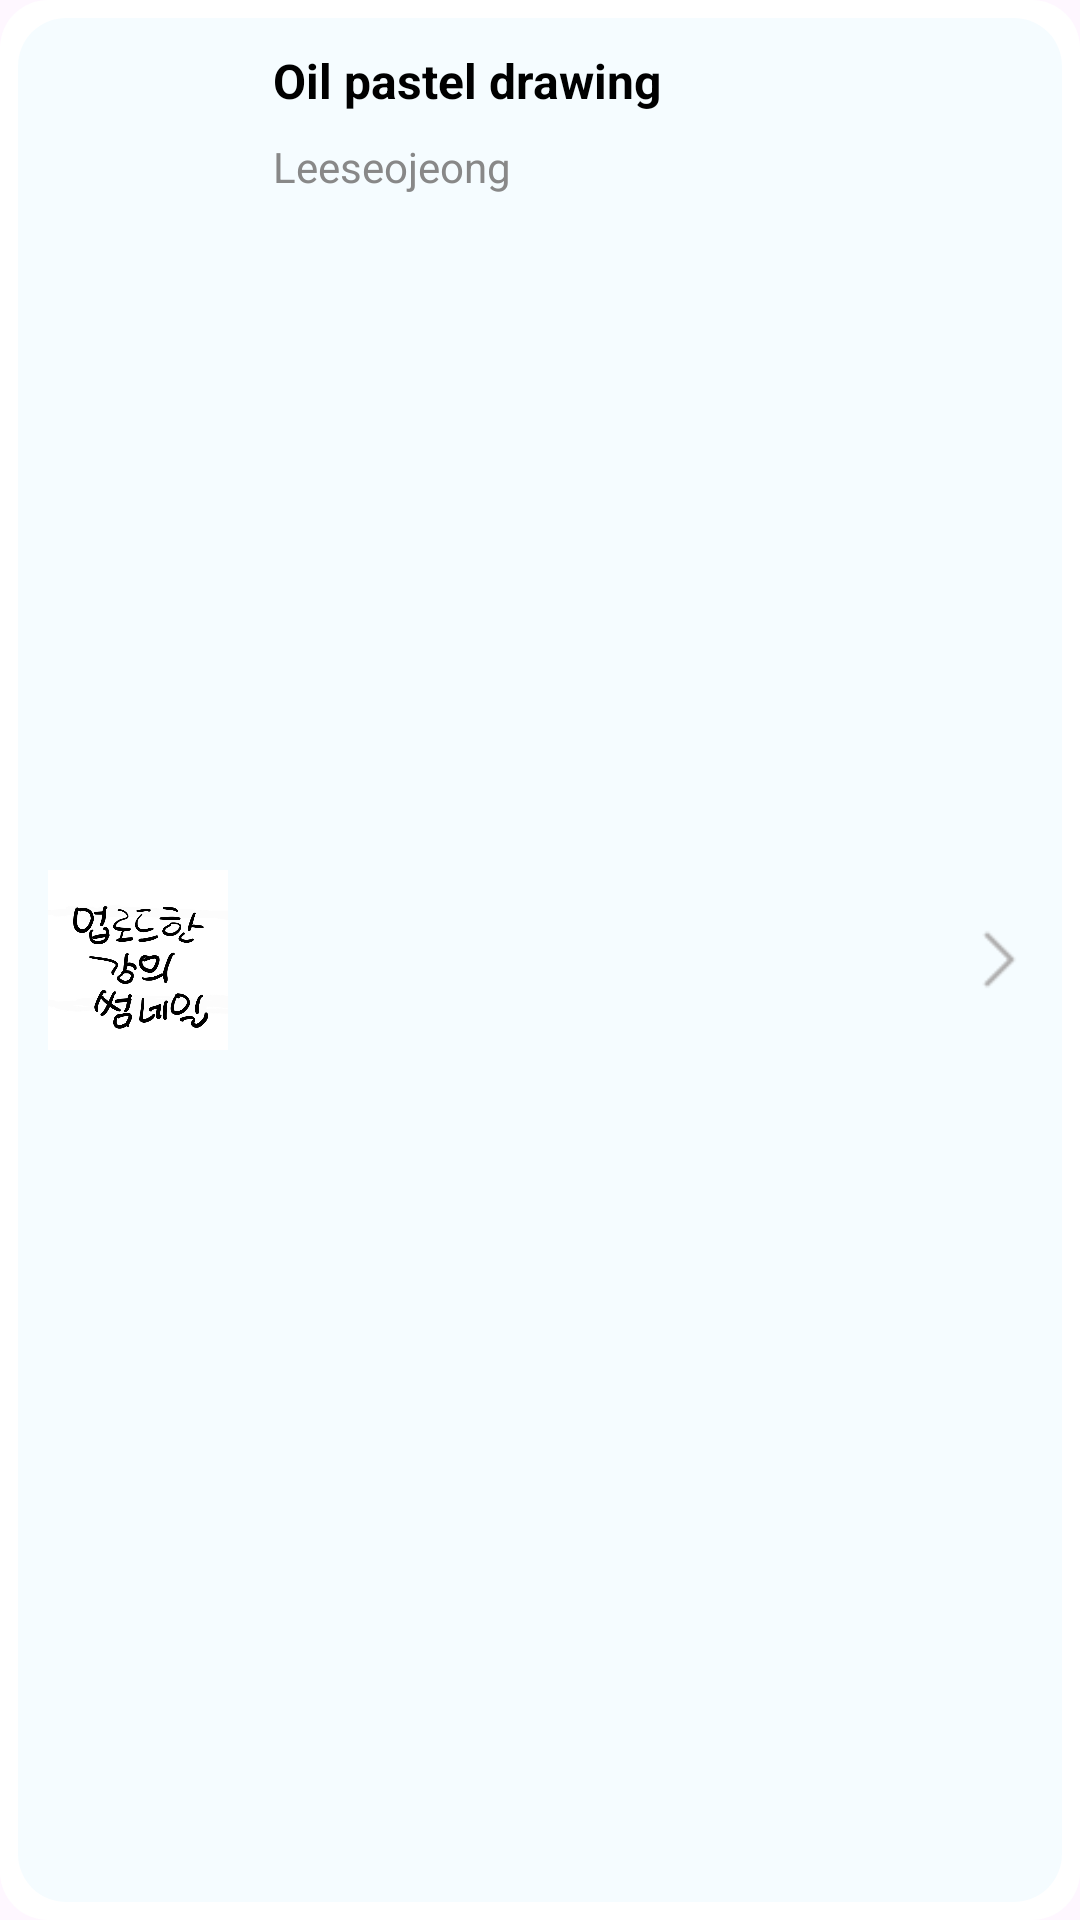

Point at icon controls on the screen. Image size 1080*1920, points as (x=x, y=y).
right errow: (x=999, y=959)
